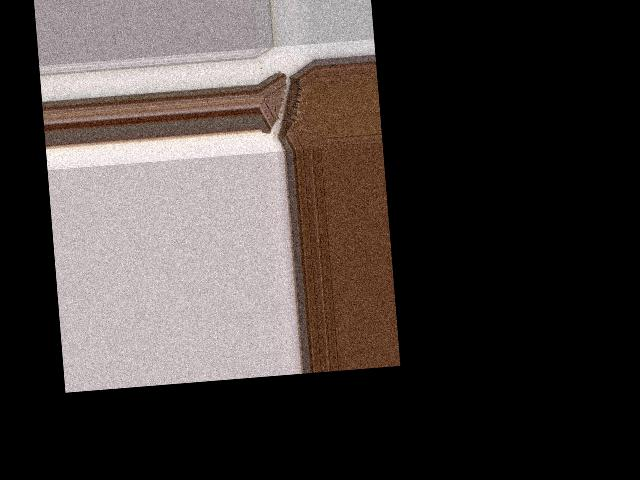chocolate: (255, 59, 320, 152)
